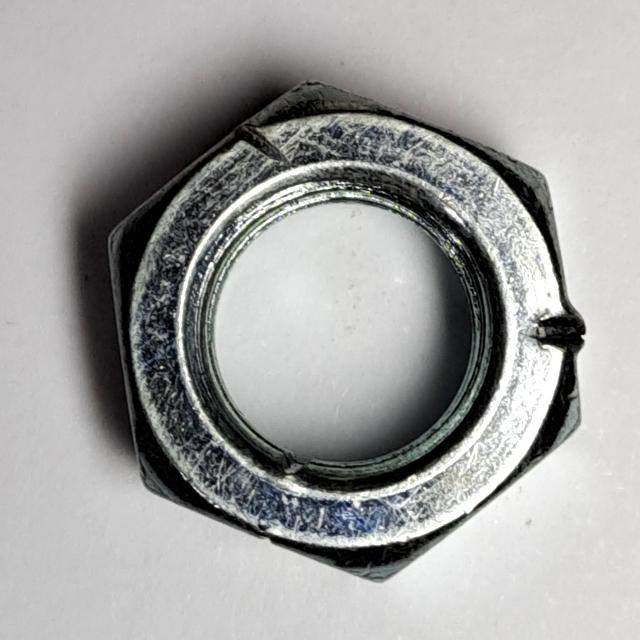Scratches: (91, 72, 597, 593)
